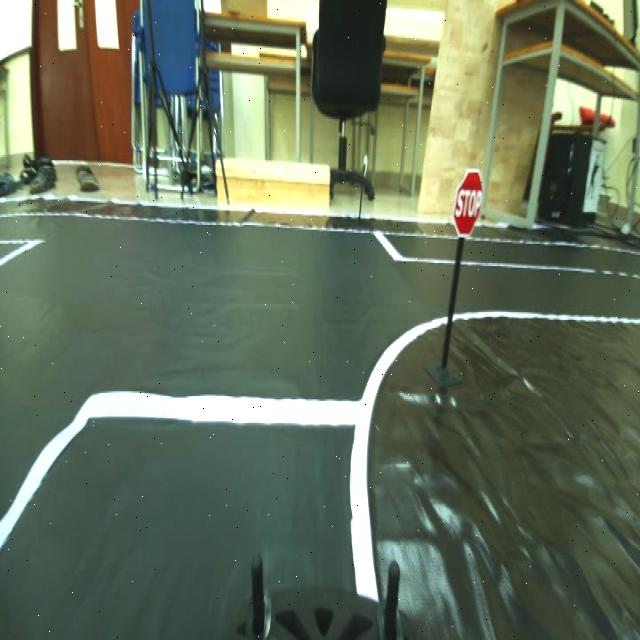stop: (450, 168, 490, 244)
